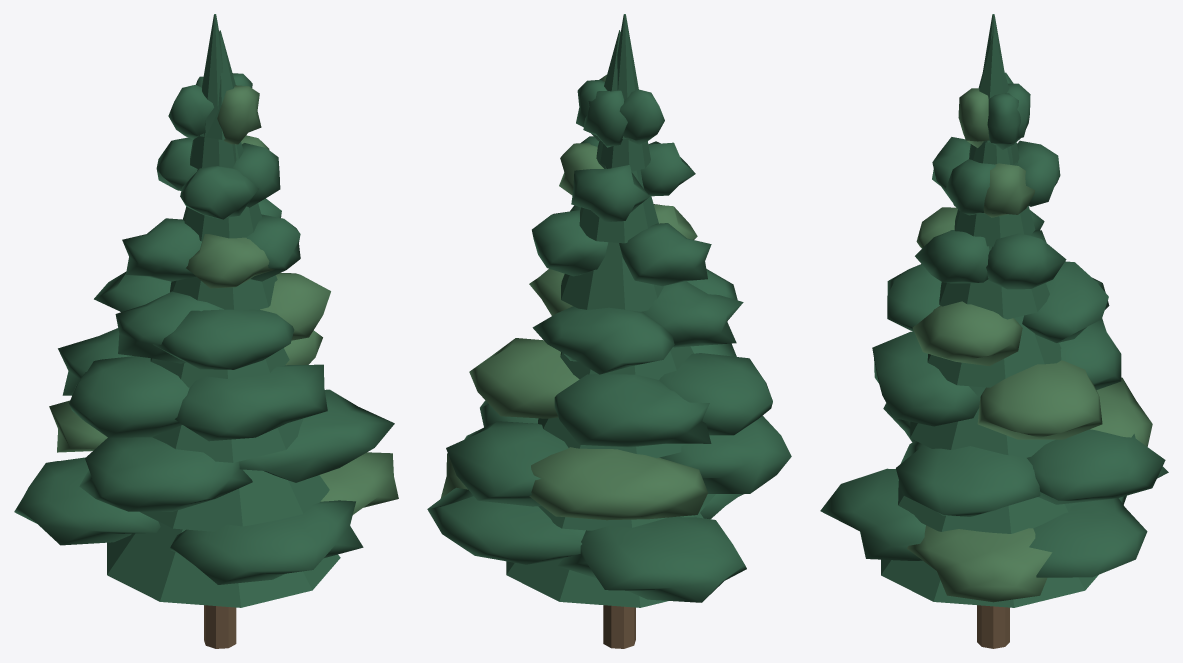
Rendered from norway-spruce_lod0.glb.
The picture shows the model from 3 angles, left to right: view 1: azimuth 30°, elevation 25°; view 2: azimuth 150°, elevation 25°; view 3: azimuth 270°, elevation 25°; orthographic projection.
Visible parts, largest first — view 1: RF_Spruce_Bough0_2, RF_Spruce_Bough1_1, RF_Spruce_Bough2_1, RF_Spruce_Core0, RF_Spruce_Bough2_3, RF_Spruce_Bough0_1, RF_Spruce_Bough1_2, RF_Spruce_Bough3_3, RF_Spruce_Core1, RF_Spruce_Bough3_0, RF_Spruce_Bough4_2, RF_Spruce_Bough4_0 (+19 smaller); view 2: RF_Spruce_Bough0_1, RF_Spruce_Bough1_3, RF_Spruce_Bough2_0, RF_Spruce_Bough0_3, RF_Spruce_Bough1_0, RF_Spruce_Bough3_2, RF_Spruce_Bough2_2, RF_Spruce_Bough2_3, RF_Spruce_Bough1_1, RF_Spruce_Bough3_0, RF_Spruce_Bough4_2, RF_Spruce_Core4 (+18 smaller); view 3: RF_Spruce_Bough1_2, RF_Spruce_Bough0_0, RF_Spruce_Bough2_2, RF_Spruce_Bough1_0, RF_Spruce_Bough0_3, RF_Spruce_Bough2_1, RF_Spruce_Bough0_2, RF_Spruce_Bough3_1, RF_Spruce_Bough3_2, RF_Spruce_Core1, RF_Spruce_Bough4_1, RF_Spruce_Core0 (+19 smaller).
Boxes of the visible parts, x1,y1,x2,y2 form: RF_Spruce_Bough0_2: (170,500,363,584); RF_Spruce_Bough1_1: (79,437,252,511); RF_Spruce_Bough2_1: (175,364,327,441); RF_Spruce_Core0: (107,521,340,607); RF_Spruce_Bough2_3: (69,356,189,437); RF_Spruce_Bough0_1: (14,457,160,545); RF_Spruce_Bough1_2: (239,389,394,482); RF_Spruce_Bough3_3: (153,309,294,369); RF_Spruce_Core1: (140,469,329,531); RF_Spruce_Bough3_0: (115,291,223,363); RF_Spruce_Bough4_2: (122,218,201,281); RF_Spruce_Bough4_0: (186,234,274,288); RF_Spruce_Bough0_1: (557,517,746,602); RF_Spruce_Bough1_3: (529,447,707,520); RF_Spruce_Bough2_0: (554,374,711,447); RF_Spruce_Bough0_3: (427,487,585,564); RF_Spruce_Bough1_0: (446,421,568,506); RF_Spruce_Bough3_2: (532,306,674,374); RF_Spruce_Bough2_2: (469,338,579,418); RF_Spruce_Bough2_3: (659,353,772,435); RF_Spruce_Bough1_1: (659,415,791,493); RF_Spruce_Bough3_0: (643,281,743,347); RF_Spruce_Bough4_2: (619,223,711,286); RF_Spruce_Core4: (561,242,663,311); RF_Spruce_Bough1_2: (896,440,1040,516); RF_Spruce_Bough0_0: (907,525,1052,602); RF_Spruce_Bough2_2: (977,360,1102,439); RF_Spruce_Bough1_0: (1027,429,1165,504); RF_Spruce_Bough0_3: (1029,498,1147,577); RF_Spruce_Bough2_1: (872,331,979,426); RF_Spruce_Bough0_2: (820,468,925,560); RF_Spruce_Bough3_1: (912,301,1022,366); RF_Spruce_Bough3_2: (1022,261,1109,342); RF_Spruce_Core1: (898,481,1082,533); RF_Spruce_Bough4_1: (986,230,1066,289); RF_Spruce_Core0: (881,559,1098,607).
Bounding box in the file's own units: 8.07 × 14.9 × 7.54.
